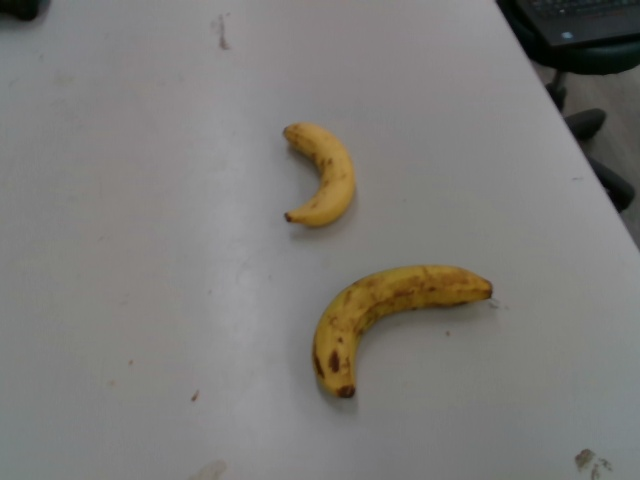banana: (310, 261, 494, 402), (276, 119, 357, 228)
